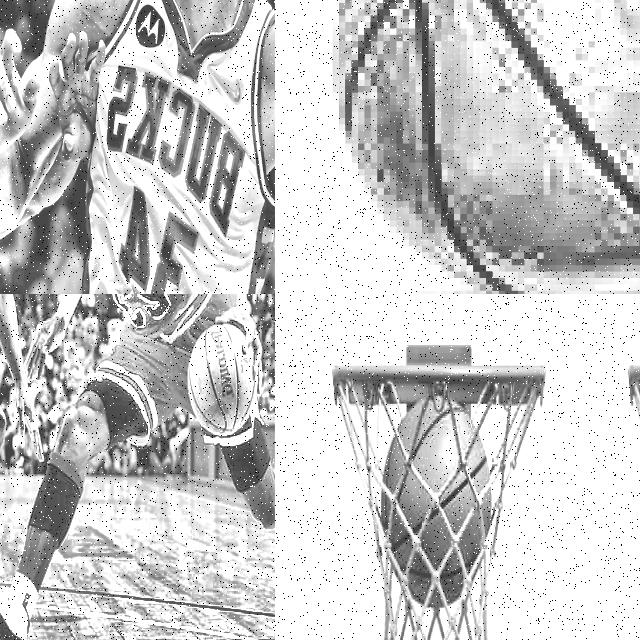Basketball: (379, 396, 491, 607), (188, 324, 257, 436)
